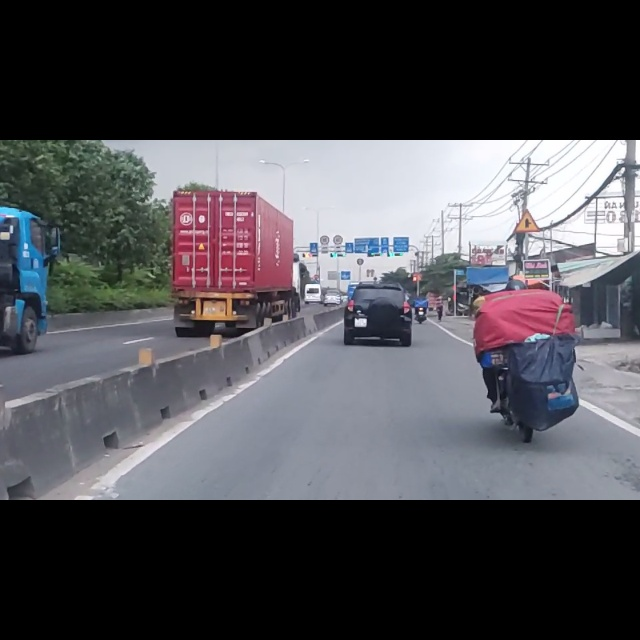bien_cam: (514, 123, 540, 164), (333, 169, 343, 185)
